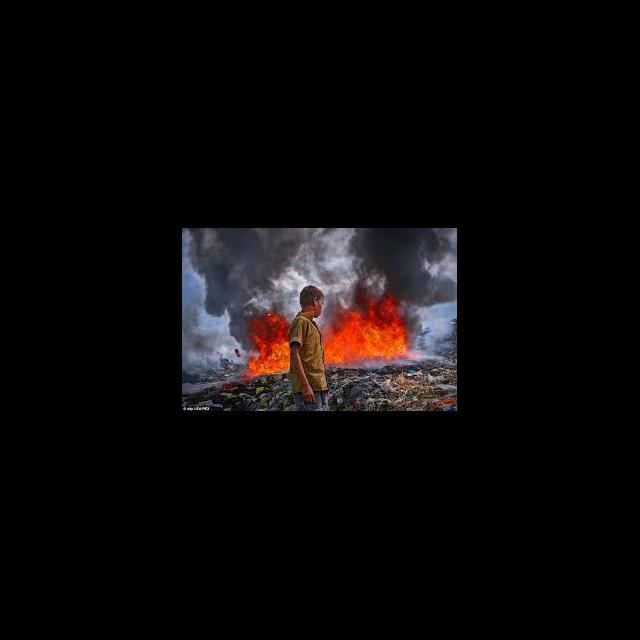Fire: (326, 291, 409, 364), (244, 312, 291, 376)
Smoke: (188, 228, 456, 284), (206, 286, 298, 309)
